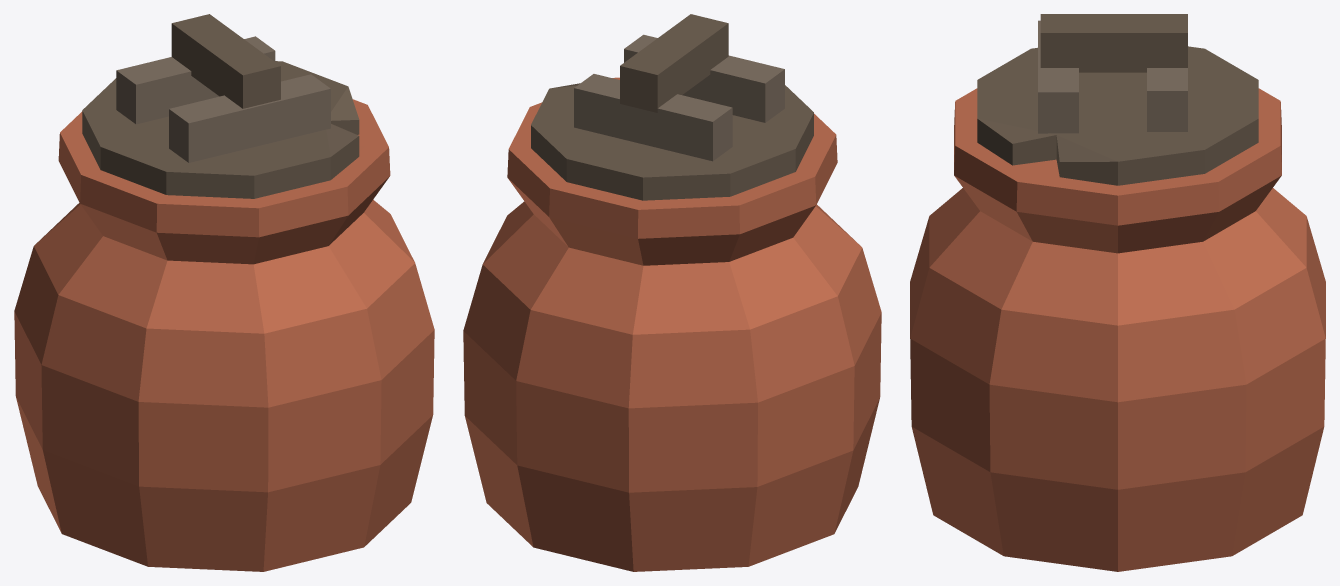
File: _pot_3.fbx
The picture shows the model from 3 angles, left to right: view 1: azimuth 30°, elevation 25°; view 2: azimuth 150°, elevation 25°; view 3: azimuth 270°, elevation 25°; orthographic projection. The views are drawn at different scales.
Visible parts, largest first — view 1: pot_3; view 2: pot_3; view 3: pot_3.
Part boxes in pixels (x1,y1,x2,y2): pot_3: (14,14,434,571); pot_3: (463,14,881,571); pot_3: (910,14,1325,571).
Size of the model in its own units: 139 by 164 by 132.
